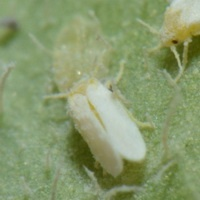insect: (46, 77, 145, 175), (151, 0, 199, 81), (54, 17, 85, 81)
